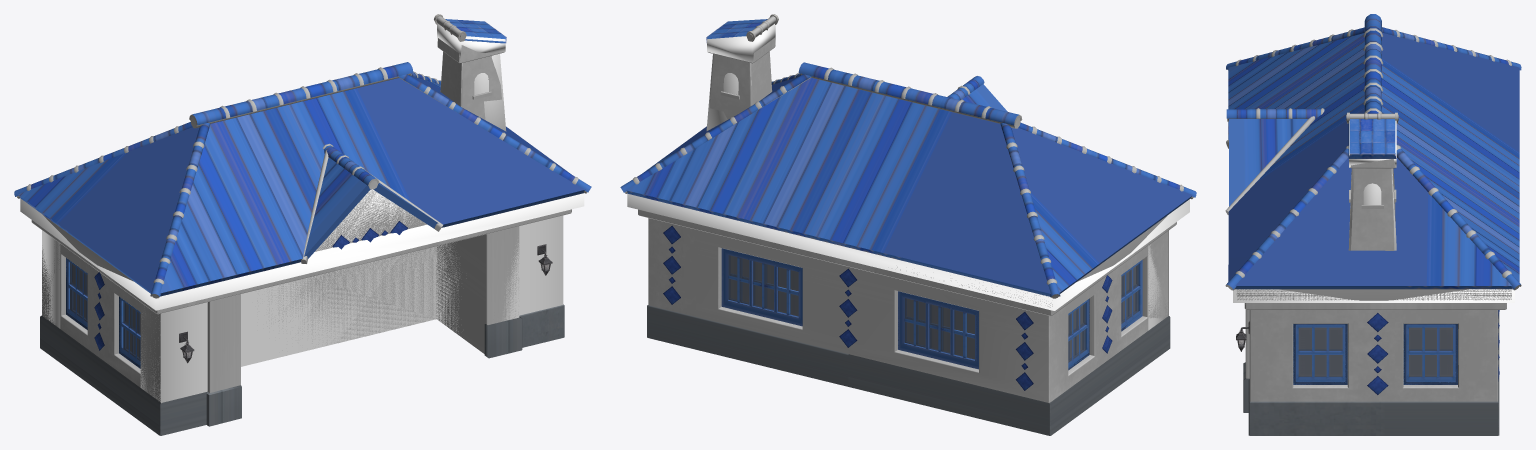
Rendered from objects_un_c02house03_s1.gltf.
3 views of the same model, side by side, from view 1: azimuth 30°, elevation 25°; view 2: azimuth 150°, elevation 25°; view 3: azimuth 270°, elevation 25° (orthographic). The views are drawn at different scales.
Visible parts, largest first — view 1: nomerge_objects_un_t03shop01_mesh11_shape:objects_un_c02hous (×3), um_objects_un_c02house03_s1_model_lod0Shape:objects_un_c02ho (×3), um_objects_un_c02house03_s1_model_lod1Shape:objects_un_c02ho (×2), um_objects_un_c02house03_s1_model_lod2Shape:objects_un_c02ho (×2); view 2: nomerge_objects_un_t03shop01_mesh11_shape:objects_un_c02hous (×3), um_objects_un_c02house03_s1_model_lod0Shape:objects_un_c02ho (×3), um_objects_un_c02house03_s1_model_lod1Shape:objects_un_c02ho (×2), um_objects_un_c02house03_s1_model_lod2Shape:objects_un_c02ho (×2); view 3: nomerge_objects_un_t03shop01_mesh11_shape:objects_un_c02hous (×3), um_objects_un_c02house03_s1_model_lod0Shape:objects_un_c02ho (×2), um_objects_un_c02house03_s1_model_lod1Shape:objects_un_c02ho (×2), um_objects_un_c02house03_s1_model_lod2Shape:objects_un_c02ho (×2).
Part boxes in pixels (<box>): nomerge_objects_un_t03shop01_mesh11_shape:objects_un_c02hous (×3): <box>14,14,591,435</box>; um_objects_un_c02house03_s1_model_lod0Shape:objects_un_c02ho (×3): <box>20,23,584,403</box>; um_objects_un_c02house03_s1_model_lod1Shape:objects_un_c02ho (×2): <box>67,221,407,366</box>; um_objects_un_c02house03_s1_model_lod2Shape:objects_un_c02ho (×2): <box>66,258,140,368</box>; nomerge_objects_un_t03shop01_mesh11_shape:objects_un_c02hous (×3): <box>620,14,1196,435</box>; um_objects_un_c02house03_s1_model_lod0Shape:objects_un_c02ho (×3): <box>627,23,1189,386</box>; um_objects_un_c02house03_s1_model_lod1Shape:objects_un_c02ho (×2): <box>663,226,1141,390</box>; um_objects_un_c02house03_s1_model_lod2Shape:objects_un_c02ho (×2): <box>721,248,1142,369</box>; nomerge_objects_un_t03shop01_mesh11_shape:objects_un_c02hous (×3): <box>1225,14,1521,435</box>; um_objects_un_c02house03_s1_model_lod0Shape:objects_un_c02ho (×2): <box>1233,120,1514,401</box>; um_objects_un_c02house03_s1_model_lod1Shape:objects_un_c02ho (×2): <box>1293,324,1456,383</box>; um_objects_un_c02house03_s1_model_lod2Shape:objects_un_c02ho (×2): <box>1293,324,1456,384</box>.
Size of what is drawn, in the model's own units: 12.52 by 7.72 by 7.02.
Materials: 10 (7 with a texture image).
